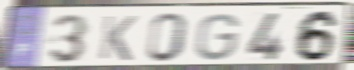0: (146, 12, 190, 64)
3: (42, 13, 93, 65)
4: (246, 10, 287, 63)
6: (293, 9, 342, 63)
G: (193, 12, 241, 62)
K: (97, 14, 139, 62)
